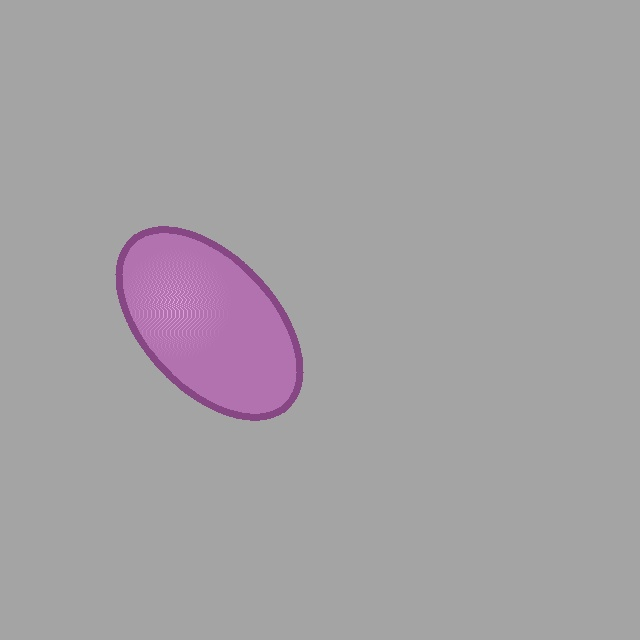lens: (118, 229, 300, 417)
